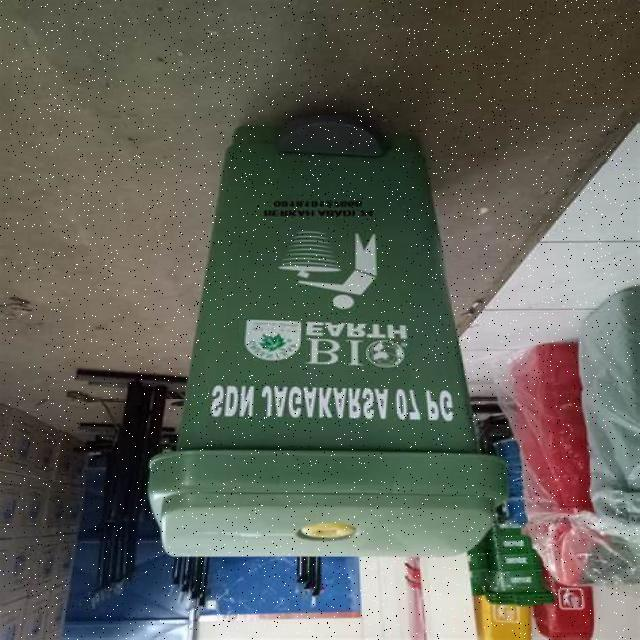garbage container: (137, 119, 524, 578)
